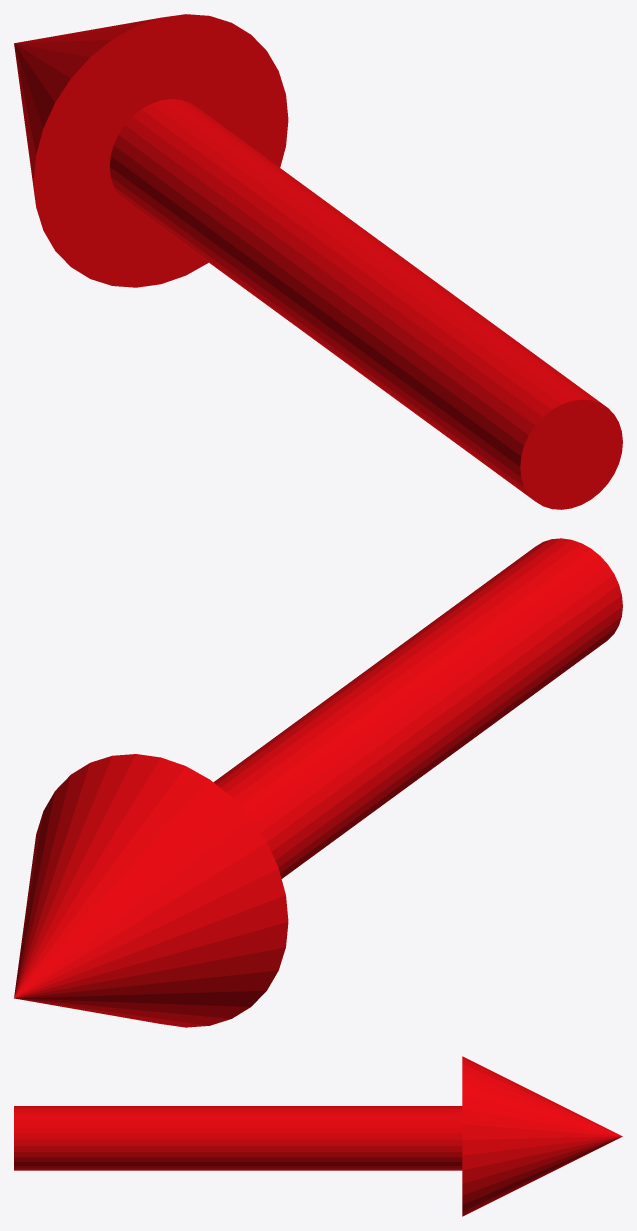
File: arrow.dae
3 views of the same model, one above another, from view 1: azimuth 30°, elevation 25°; view 2: azimuth 150°, elevation 25°; view 3: azimuth 270°, elevation 25° (orthographic). The views are drawn at different scales.
Parts seen in each view (by area): view 1: Cylinder; view 2: Cylinder; view 3: Cylinder.
Boxes of the visible parts, x1,y1,x2,y2 form: Cylinder: (14, 14, 622, 509); Cylinder: (14, 538, 622, 1027); Cylinder: (14, 1056, 622, 1216).
Bounding box in the file's own units: 0.6116 × 2.32 × 0.6116.
